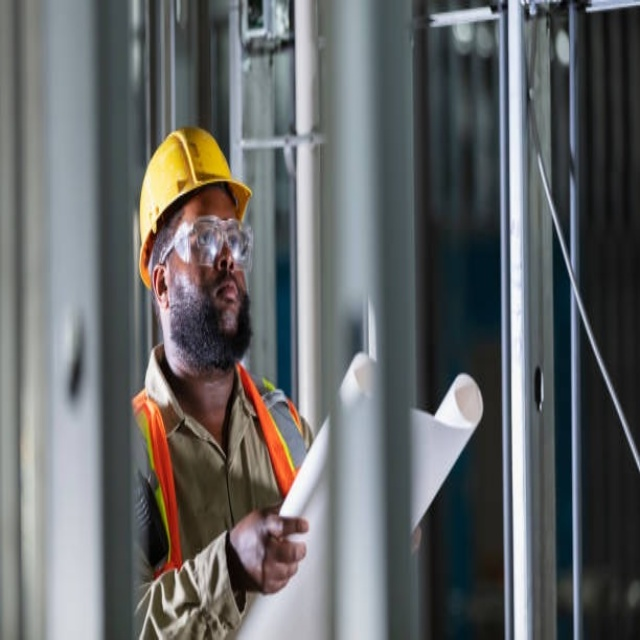Gafas: (154, 215, 255, 273)
Sin_guantes: (229, 503, 311, 597)
Sin_mascara: (201, 276, 250, 326)
